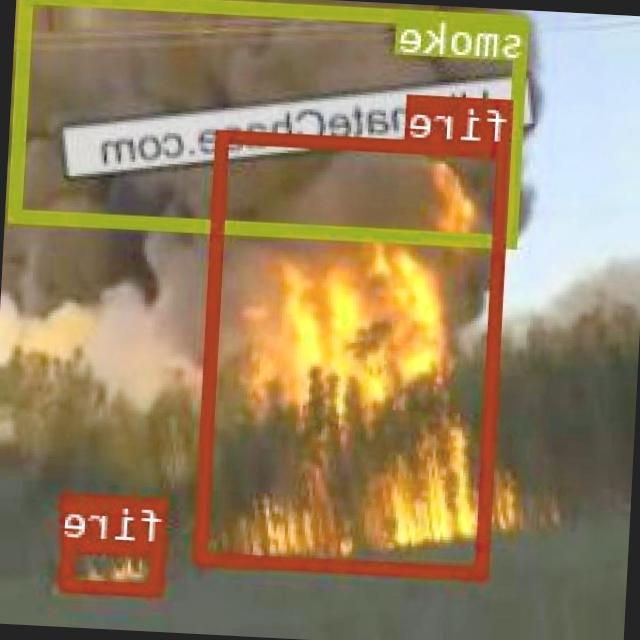fire: (196, 128, 514, 578), (63, 538, 168, 594)
smoke: (11, 0, 529, 245)
